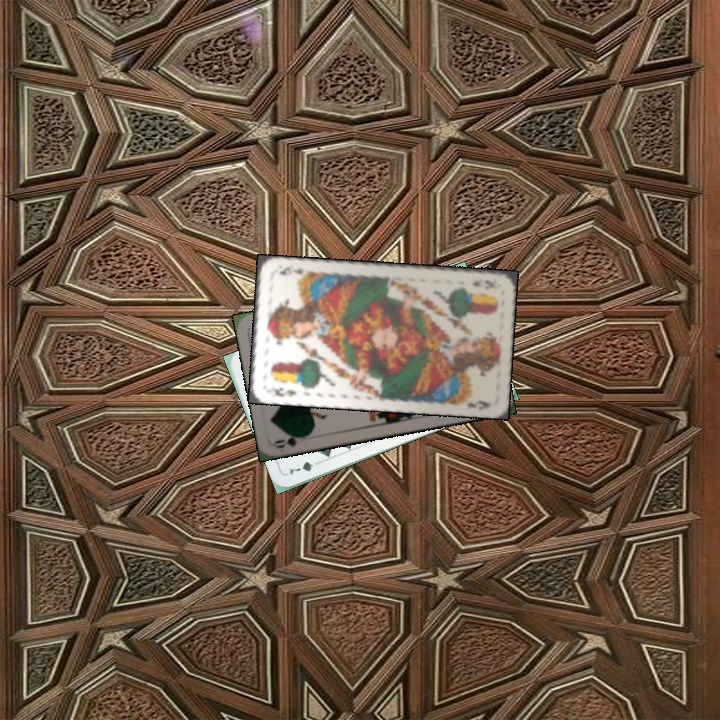EK: (271, 383, 299, 400), (468, 276, 498, 290)
G7: (285, 457, 324, 477)
GO: (271, 431, 311, 451)
